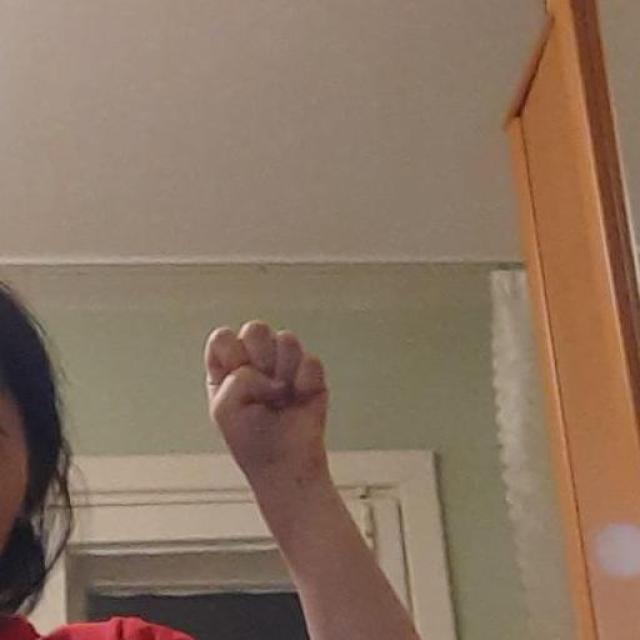hand: (202, 319, 332, 490)
